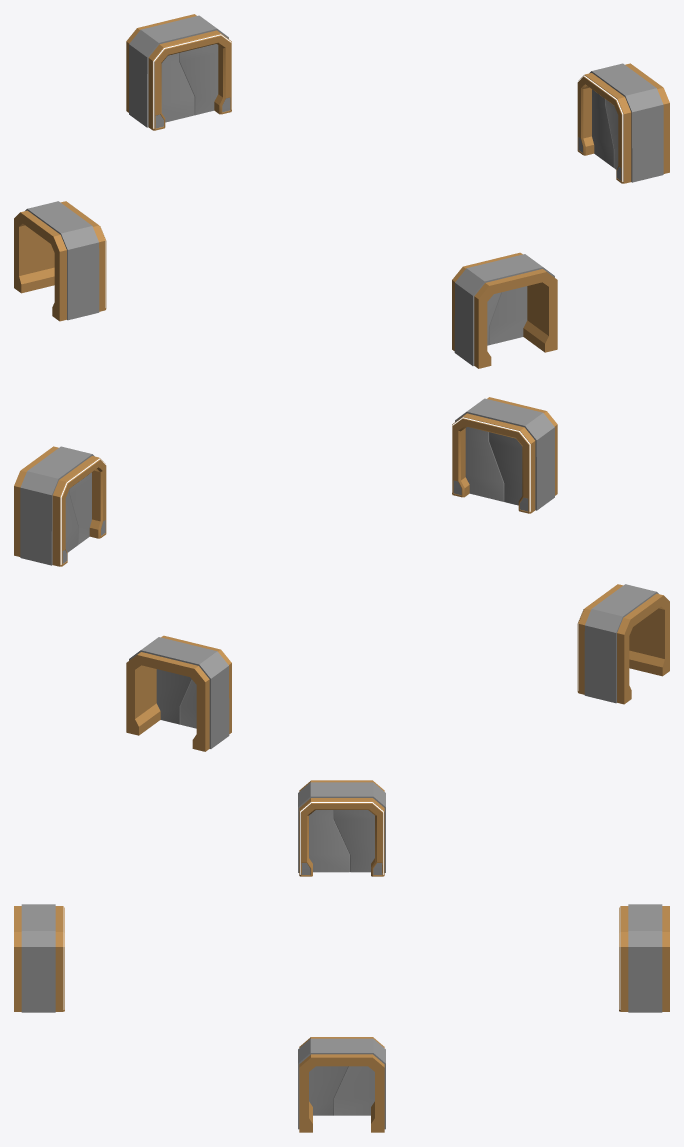
The model's file is Room_PowerChamber_Doors.fbx.
The picture shows the model from 3 angles, top to bottom: view 1: azimuth 30°, elevation 25°; view 2: azimuth 150°, elevation 25°; view 3: azimuth 270°, elevation 25°; orthographic projection. The views are drawn at different scales.
Parts seen in each view (by area): view 1: Doors; view 2: Doors; view 3: Doors.
Part boxes in pixels (x1,y1,x2,y2): Doors: (14, 14, 669, 368); Doors: (14, 397, 669, 751); Doors: (14, 780, 669, 1132).
Bounding box in the file's own units: 2659 × 341 × 2659.
